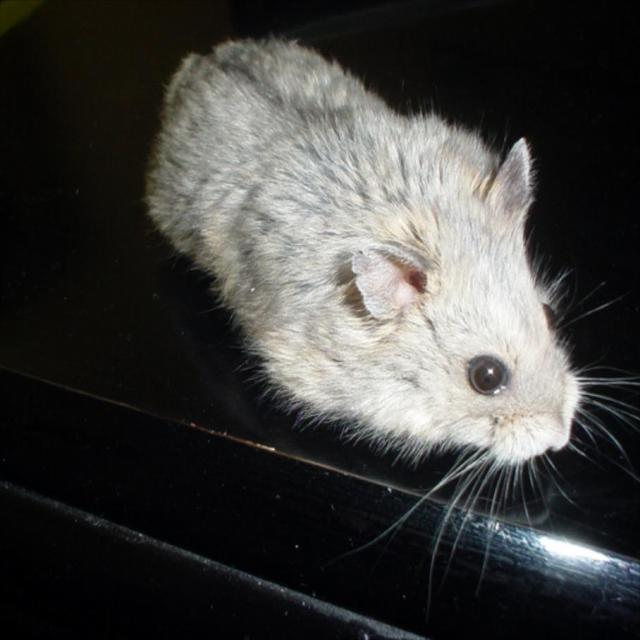rat: (145, 33, 587, 463)
